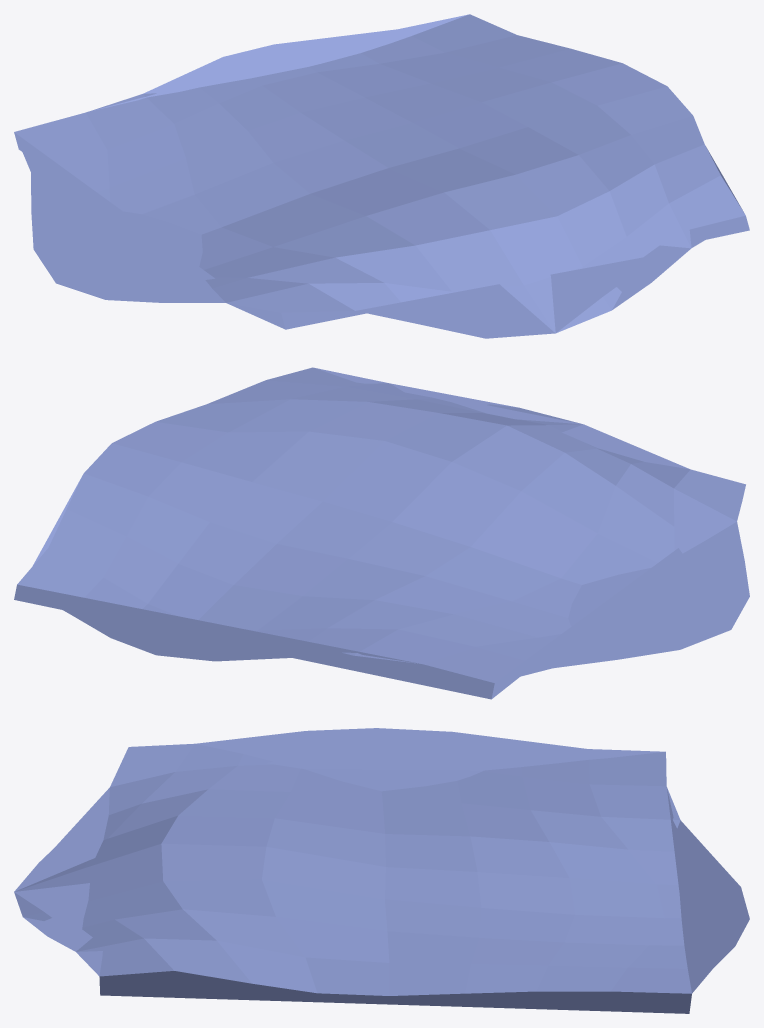
The model's file is ketchup.gltf.
3 views of the same model, one above another, from view 1: azimuth 30°, elevation 25°; view 2: azimuth 150°, elevation 25°; view 3: azimuth 270°, elevation 25° (orthographic). The views are drawn at different scales.
Visible parts, largest first — view 1: Plane.001; view 2: Plane.001; view 3: Plane.001.
Part boxes in pixels (x1=…): Plane.001: x1=14, y1=14, x2=749, y2=338; Plane.001: x1=14, y1=367, x2=749, y2=699; Plane.001: x1=14, y1=728, x2=749, y2=1013.
Size of the model in its own units: 2.2 by 0.1751 by 2.2.
